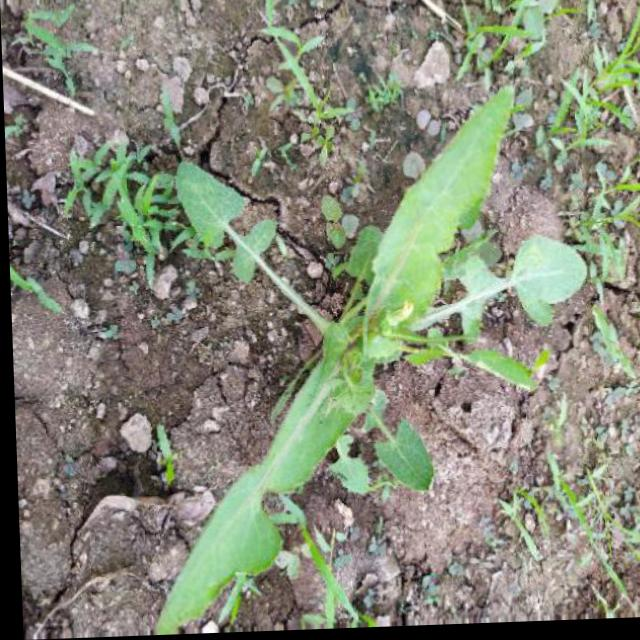weed: (90, 83, 617, 637)
